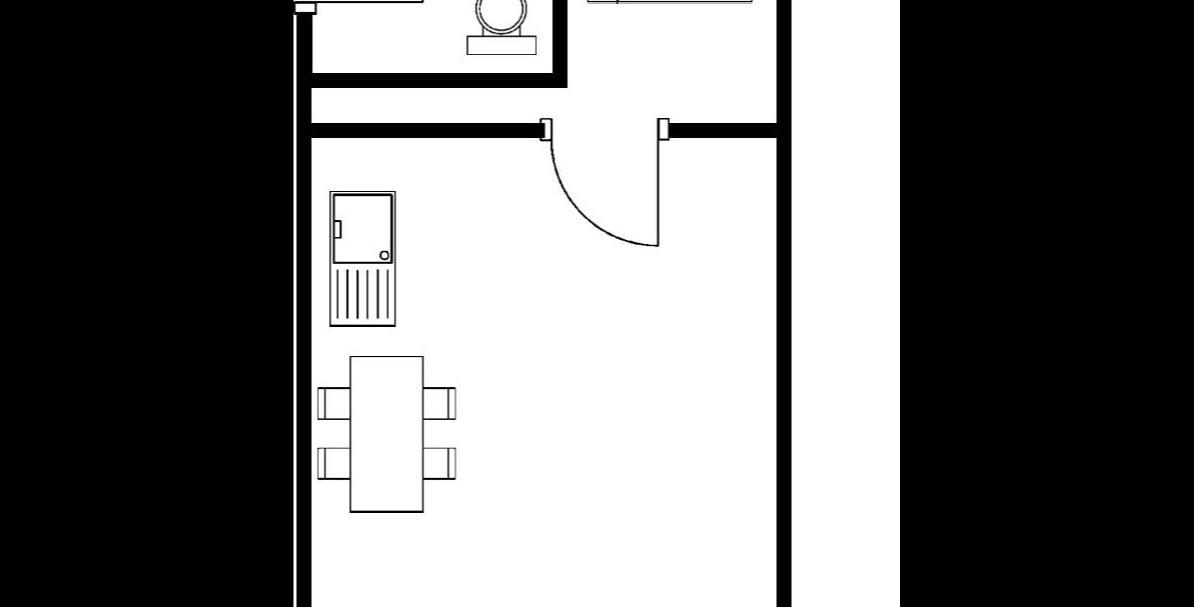dining_table: (316, 348, 464, 520)
sink: (322, 184, 404, 333)
toilet: (460, 0, 543, 60)
